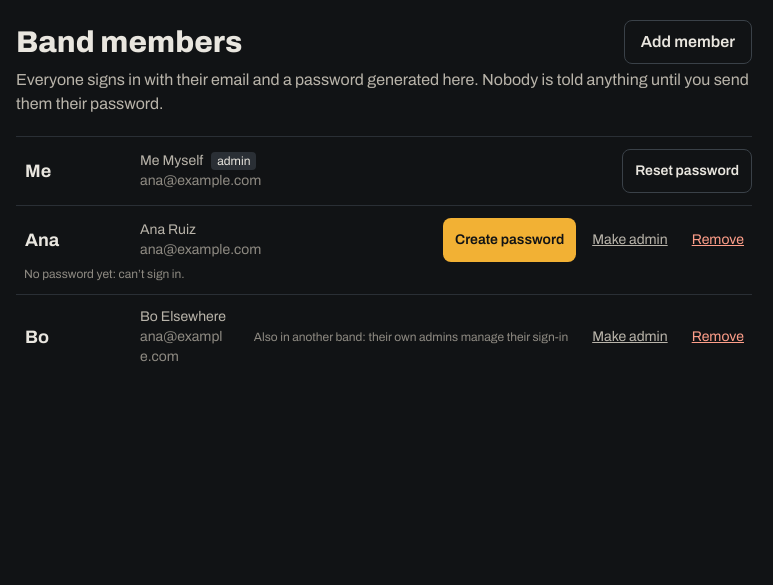
Members › says why someone couldn’t be added
The image size is (773, 585).
Step 1. Click the button "Add member" → click(688, 42), box [624,20,752,64]
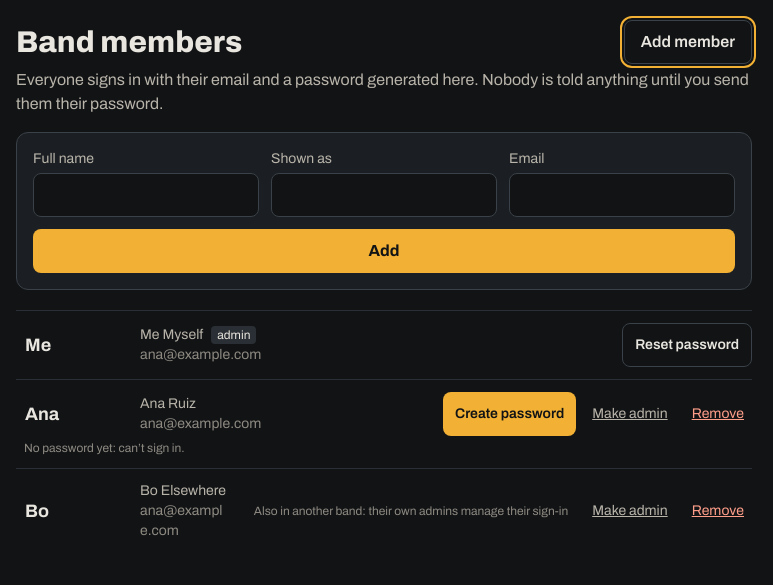
Step 2. Type "Cy" into the field labelled "Full name" → (146, 195), box [33,173,259,217]
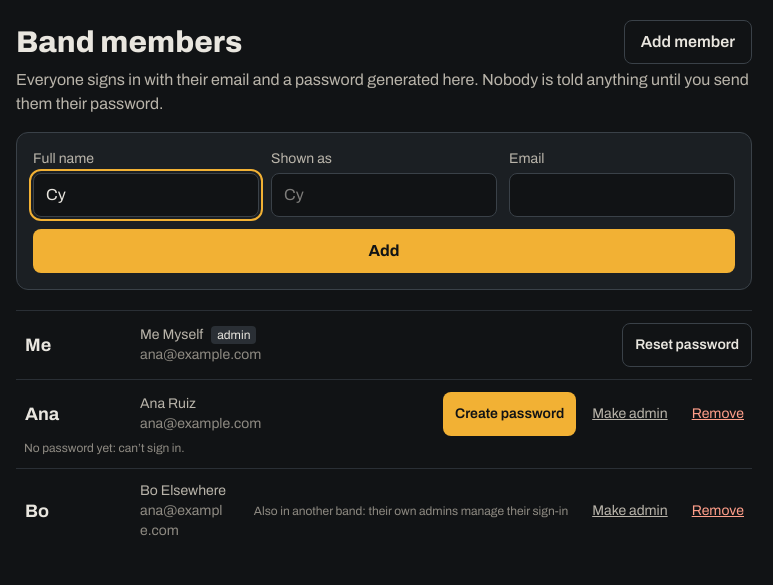
Step 3. Type "cy@example.com" into the field labelled "Email" → (622, 195), box [509,173,735,217]
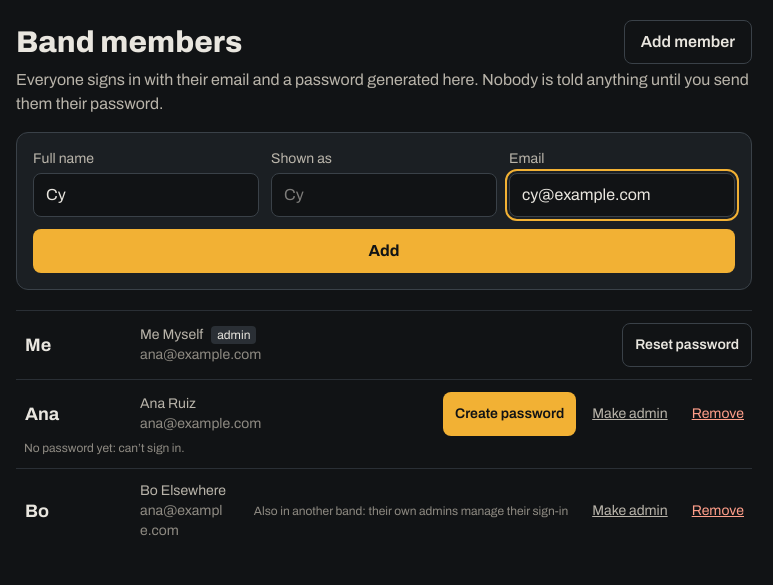
Step 4. Click the button "Add" → click(384, 251), box [33,229,735,273]
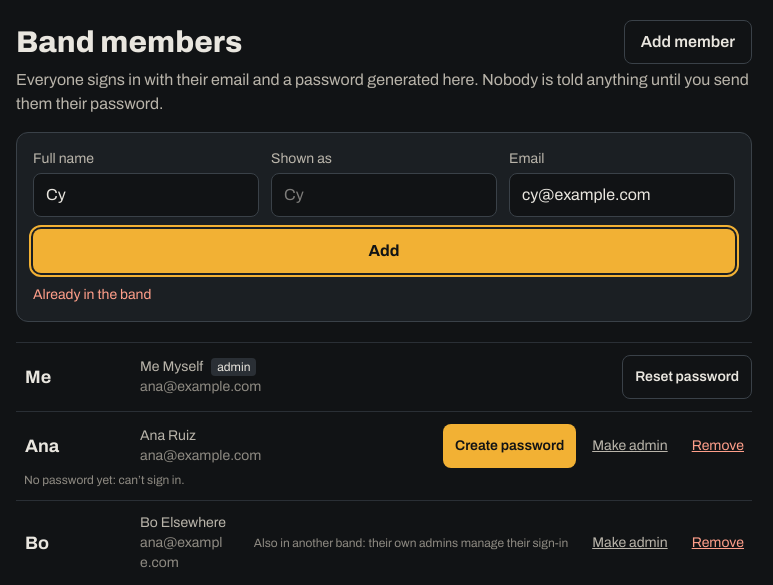
Expected: the message reads "Already in the band", [33,287,151,302]
